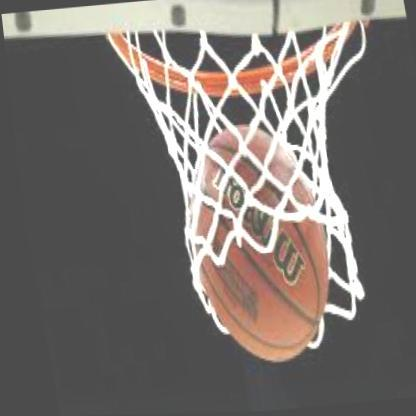basketball: (168, 122, 338, 369)
rim: (99, 5, 381, 112)
